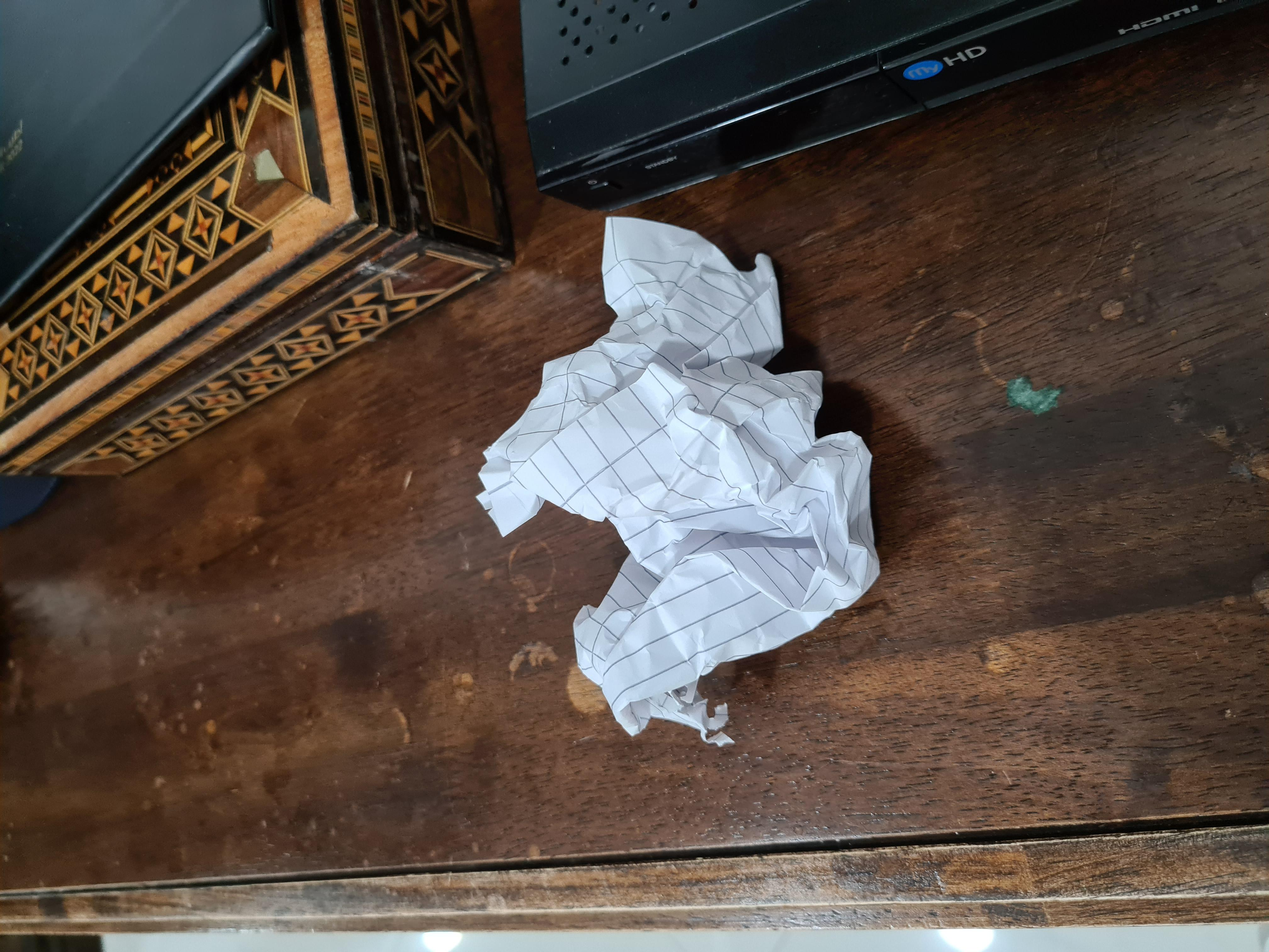paper: (274, 350, 982, 659)
